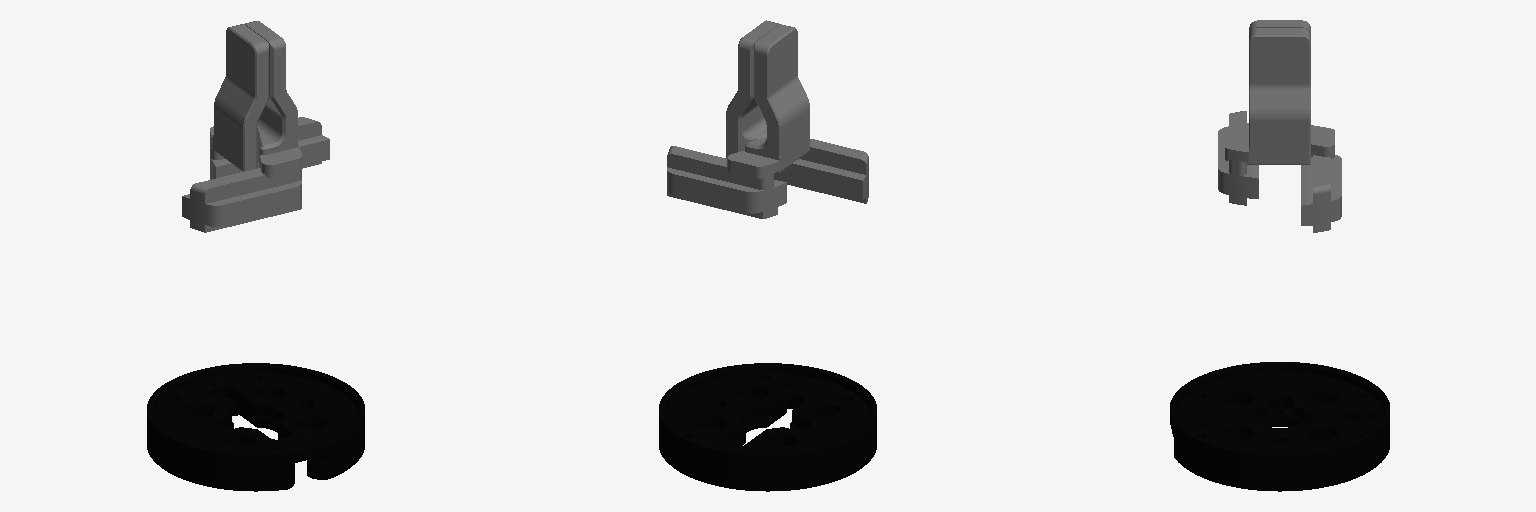
robot.urdf — robotiq_hande_gripper:
<?xml version="1.0" ?>
<!-- =================================================================================== -->
<!-- |    This document was autogenerated by xacro from robotiq_hande_gripper.urdf.xacro | -->
<!-- |    EDITING THIS FILE BY HAND IS NOT RECOMMENDED                                 | -->
<!-- =================================================================================== -->
<robot name="robotiq_hande_gripper">
  <!--
    Based on the URDF file by [author]
  -->
  <material name="Grey">
    <color rgba="0.5 0.5 0.5 1.0"/>
  </material>
  <material name="DarkGrey">
    <color rgba="0.04 0.04 0.04 1.0"/>
  </material>
  <link name="tool0"/>
  <!-- Robotiq Coupler -->
  <!--  + Height added by the coupler: 13.9mm -->
  <!--  + Reference frame: at the middle (6.95mm) -->
  <joint name="robotiq_coupler_joint" type="fixed">
    <origin rpy="0 0 -1.5707963267948966" xyz="0 0 0.00695"/>
    <parent link="tool0"/>
    <child link="robotiq_coupler"/>
  </joint>
  <link name="robotiq_coupler">
    <inertial>
      <mass value="0.168"/>
      <inertia ixx="6.17674E-05" ixy="0.0" ixz="0.0" iyy="6.17674E-05" iyz="0.0" izz="1.18125E-04"/>
    </inertial>
    <collision>
      <geometry>
        <cylinder length="0.0139" radius="0.0375"/>
      </geometry>
    </collision>
    <visual>
      <geometry>
        <mesh filename="../meshes/coupler.obj"/>
      </geometry>
      <material name="DarkGrey"/>
    </visual>
  </link>
  <joint name="robotiq_hande_base_joint" type="fixed">
    <origin rpy="0 0 0" xyz="0 0 0.055"/>
    <parent link="robotiq_coupler"/>
    <child link="hande_link"/>
  </joint>
  <link name="hande_link">
    <inertial>
      <mass value="0.86387"/>
      <inertia ixx="0.001" ixy="0.0" ixz="0.0" iyy="0.001" iyz="0.0" izz="0.0006"/>
    </inertial>
    <collision>
      <geometry>
        <cylinder length="0.0988" radius="0.0375"/>
      </geometry>
    </collision>
    <visual>
      <origin rpy="0 -1.570796 -1.570796" xyz="0 0 -0.0016"/>
      <geometry>
        <mesh filename="../meshes/hande.obj" scale="1.0 1.0 1.0"/>
      </geometry>
      <material name="DarkGrey"/>
    </visual>
  </link>
  <joint name="hande_left_finger_joint" type="prismatic">
    <origin rpy="0 0 0" xyz="0 -0.025 0.0345"/>
    <parent link="hande_link"/>
    <child link="hande_left_finger"/>
    <axis xyz="0 1 0"/>
    <limit effort="130" lower="0" upper="0.025" velocity="0.15"/>
  </joint>
  <link name="hande_left_finger">
    <inertial>
      <origin rpy="0 0 0" xyz="0 0 0"/>
      <mass value="0.03804"/>
      <inertia ixx="1E-9" ixy="0.0" ixz="0.0" iyy="1E-9" iyz="0.0" izz="1E-9"/>
    </inertial>
    <collision>
      <origin rpy="0 0 3.1415926" xyz="0 0 0"/>
      <geometry>
        <mesh filename="../meshes/finger_collision.obj" scale="1.0 1.0 1.0"/>
      </geometry>
    </collision>
    <visual>
      <origin rpy="1.570796 0 3.1415926" xyz="0 0 0"/>
      <geometry>
        <mesh filename="../meshes/finger.obj" scale="1.0 1.0 1.0"/>
      </geometry>
      <material name="Grey"/>
    </visual>
  </link>
  <joint name="hande_right_finger_joint" type="prismatic">
    <origin rpy="0 0 0" xyz="0 0.025 0.0345"/>
    <parent link="hande_link"/>
    <child link="hande_right_finger"/>
    <axis xyz="0 -1 0"/>
    <limit effort="130" lower="0" upper="0.025" velocity="0.15"/>
    <!-- Mimic tag removed -->
    <!-- <mimic joint="hande_left_finger_joint" multiplier="1" offset="0"/> -->
  </joint>
  <link name="hande_right_finger">
    <inertial>
      <origin rpy="0 0 0" xyz="0 0 0"/>
      <mass value="0.03804"/>
      <inertia ixx="1E-9" ixy="0.0" ixz="0.0" iyy="1E-9" iyz="0.0" izz="1E-9"/>
    </inertial>
    <collision>
      <origin rpy="0 0 0" xyz="0 0 0"/>
      <geometry>
        <mesh filename="../meshes/finger_collision.obj" scale="1.0 1.0 1.0"/>
      </geometry>
    </collision>
    <visual>
      <origin rpy="1.570796 0 0" xyz="0 0 0"/>
      <geometry>
        <mesh filename="../meshes/finger.obj" scale="1.0 1.0 1.0"/>
      </geometry>
      <material name="Grey"/>
    </visual>
  </link>
  <joint name="robotiq_hande_end_joint" type="fixed">
    <origin rpy="0 0 0" xyz="0 0 0.095"/>
    <parent link="hande_link"/>
    <child link="hande_end"/>
  </joint>
  <link name="hande_end"/>
</robot>

--- Facts derived from the render (not from the file) ---
The picture shows the robot from 3 angles, left to right: view 1: azimuth 30°, elevation 25°; view 2: azimuth 150°, elevation 25°; view 3: azimuth 270°, elevation 25°; orthographic projection.
Robot: robotiq_hande_gripper — 6 links, 5 joints (2 prismatic, 3 fixed); root link tool0; default pose: every joint at zero.
Links seen in each view (by area): view 1: robotiq_coupler, hande_left_finger, hande_right_finger; view 2: robotiq_coupler, hande_right_finger, hande_left_finger; view 3: robotiq_coupler, hande_left_finger, hande_right_finger.
Link boxes in pixels (x1,y1,x2,y2): robotiq_coupler: (147,363,364,491); hande_left_finger: (182,21,301,232); hande_right_finger: (210,24,329,179); robotiq_coupler: (659,363,876,491); hande_right_finger: (667,24,809,218); hande_left_finger: (726,20,868,203); robotiq_coupler: (1170,362,1389,491); hande_left_finger: (1218,28,1310,205); hande_right_finger: (1249,20,1341,232).
Size in the robot's own frame: 0.075 by 0.075 by 0.1566 metres.
3 mesh visuals loaded from 3 distinct referenced files (2 OBJ); not drawn: 1 (reference not matched to a file when rendering).